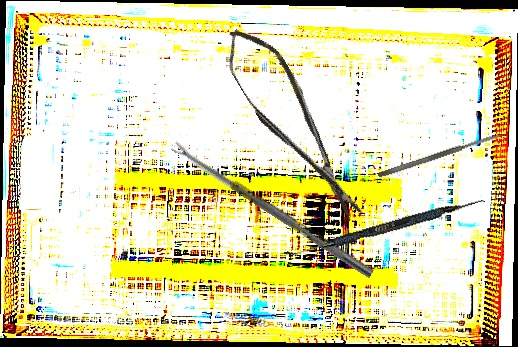Micro Scissor: (213, 16, 373, 234)
Spatula Surgical: (283, 192, 486, 264), (377, 132, 501, 179)
Surgical Spoon: (171, 140, 375, 279)
